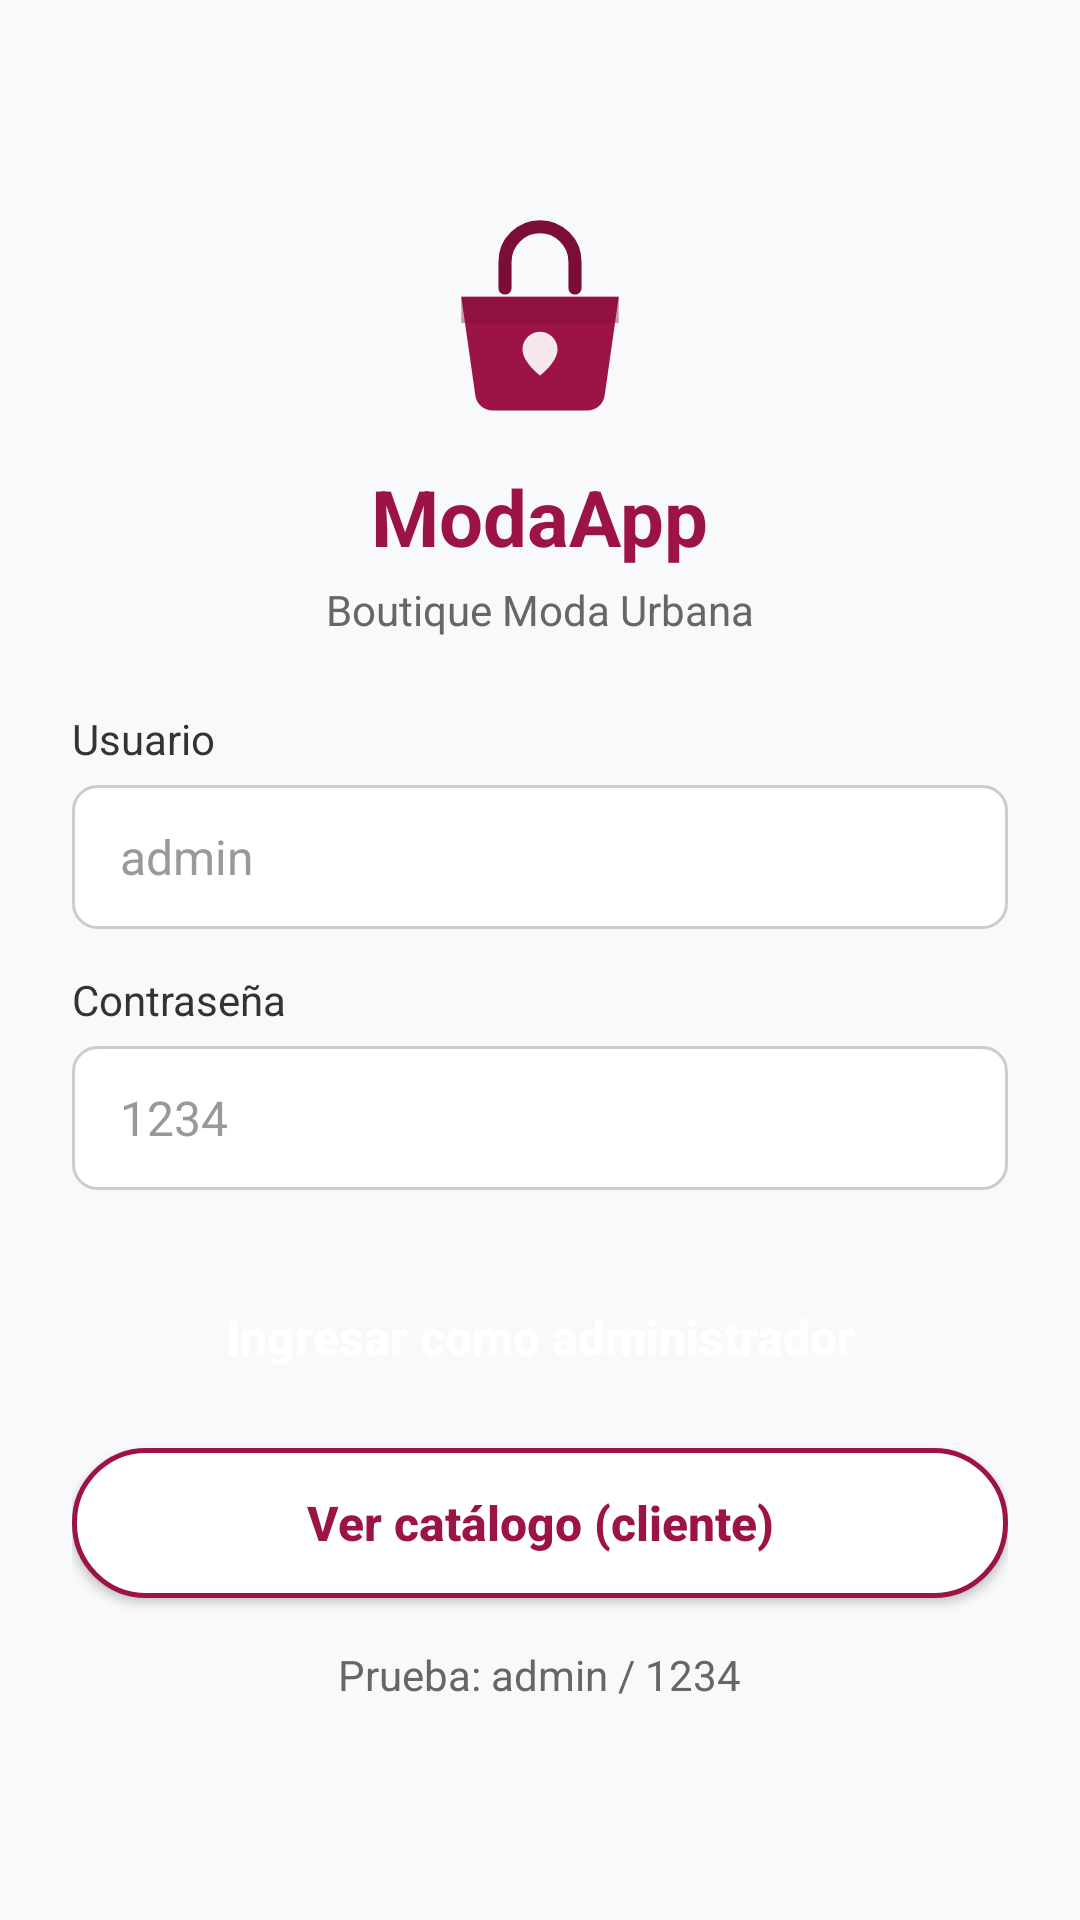

Icons on this 1080 x 1920 Android screen, each with its box as [x1, y1, x2, y2]:
shopping bag: [461, 220, 619, 411]
